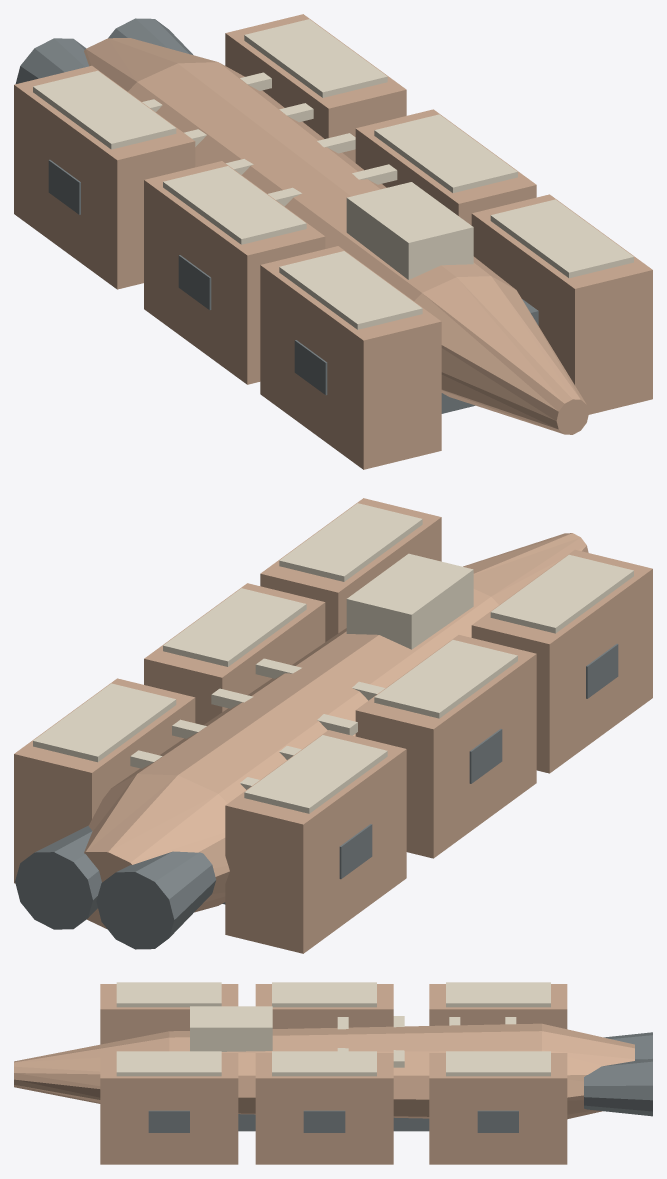
The picture shows the model from 3 angles, top to bottom: view 1: azimuth 30°, elevation 25°; view 2: azimuth 150°, elevation 25°; view 3: azimuth 270°, elevation 25°; orthographic projection. The views are drawn at different scales.
Size of the model in its own units: 3.6 by 1.77 by 10.19.
